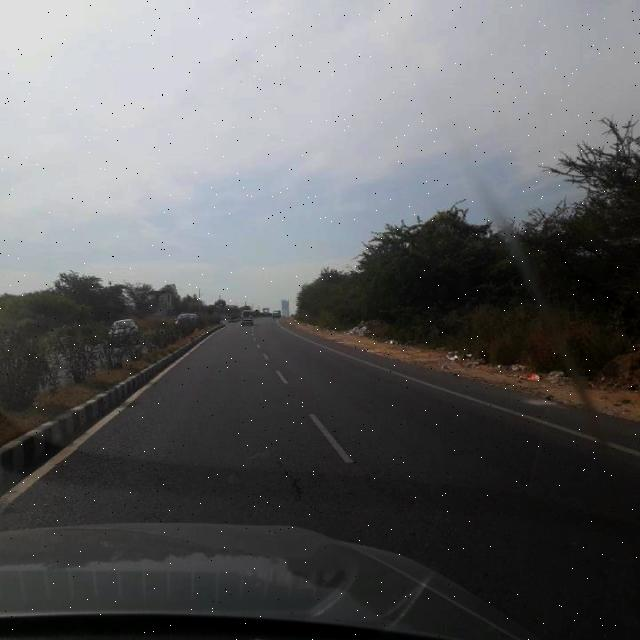D00: (264, 440, 309, 513)
